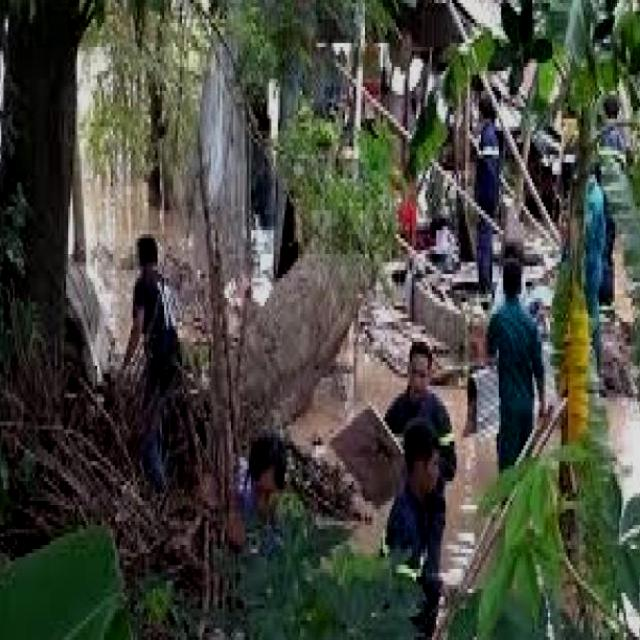fallen_object: (103, 94, 404, 640)
